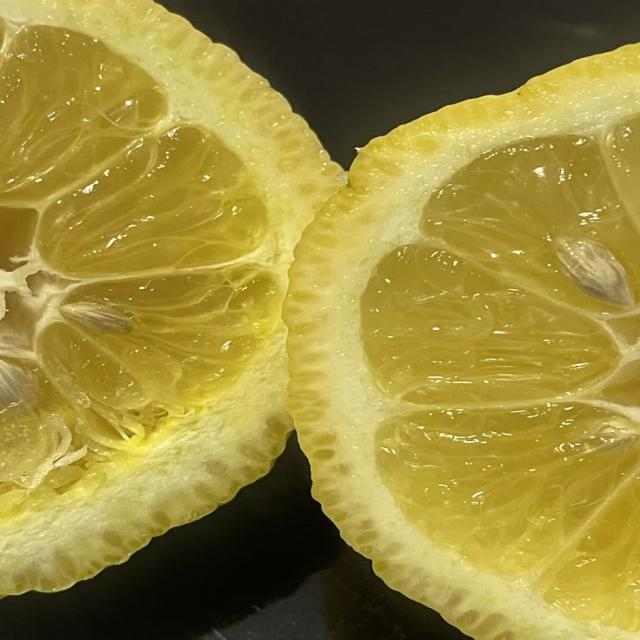lemon: (286, 46, 639, 639), (0, 0, 338, 594)
